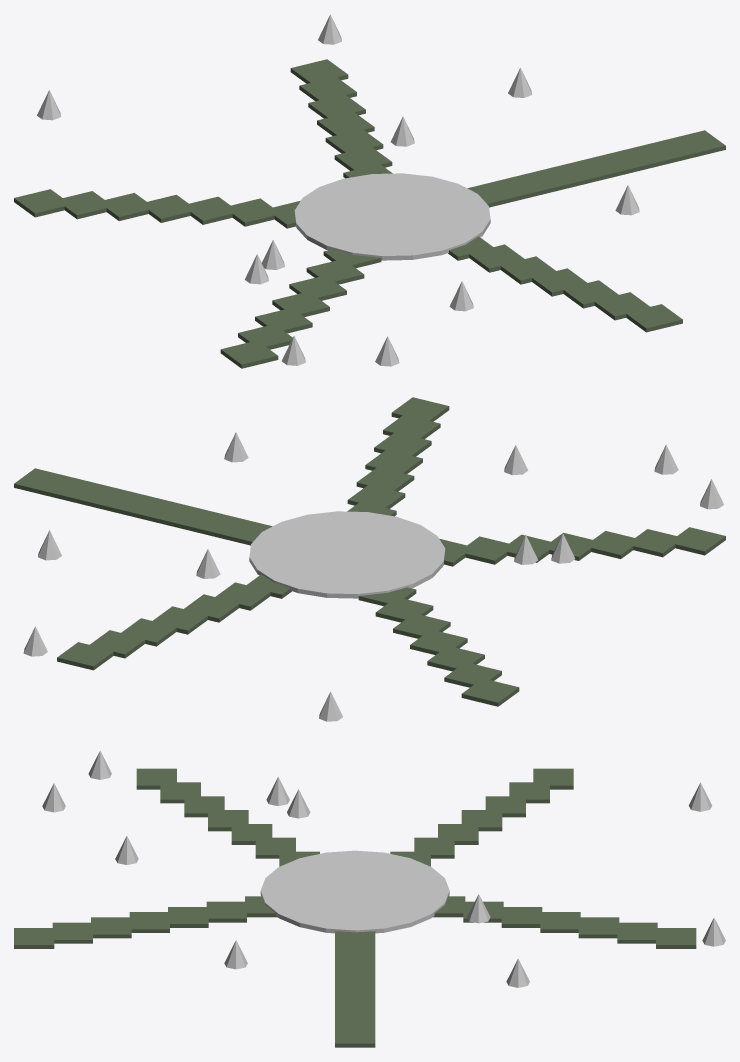
File: r01-egyptian-desert__layout_main.obj
3 renders of one model, top to bottom at view 1: azimuth 30°, elevation 25°; view 2: azimuth 150°, elevation 25°; view 3: azimuth 270°, elevation 25°, orthographic. The views are drawn at different scales.
Parts seen in each view (by area): view 1: paths, plaza, scatter; view 2: paths, plaza, scatter; view 3: paths, plaza, scatter.
Boxes of the visible parts, x1,y1,x2,y2 form: paths: (14, 59, 725, 368); plaza: (294, 173, 490, 260); scatter: (37, 14, 639, 366); paths: (14, 397, 725, 706); plaza: (249, 511, 445, 598); scatter: (23, 432, 723, 721); paths: (14, 768, 696, 1047); plaza: (260, 850, 449, 933); scatter: (42, 751, 725, 987).
Bounding box in the file's own units: 48.23 × 3.08 × 52.76.
